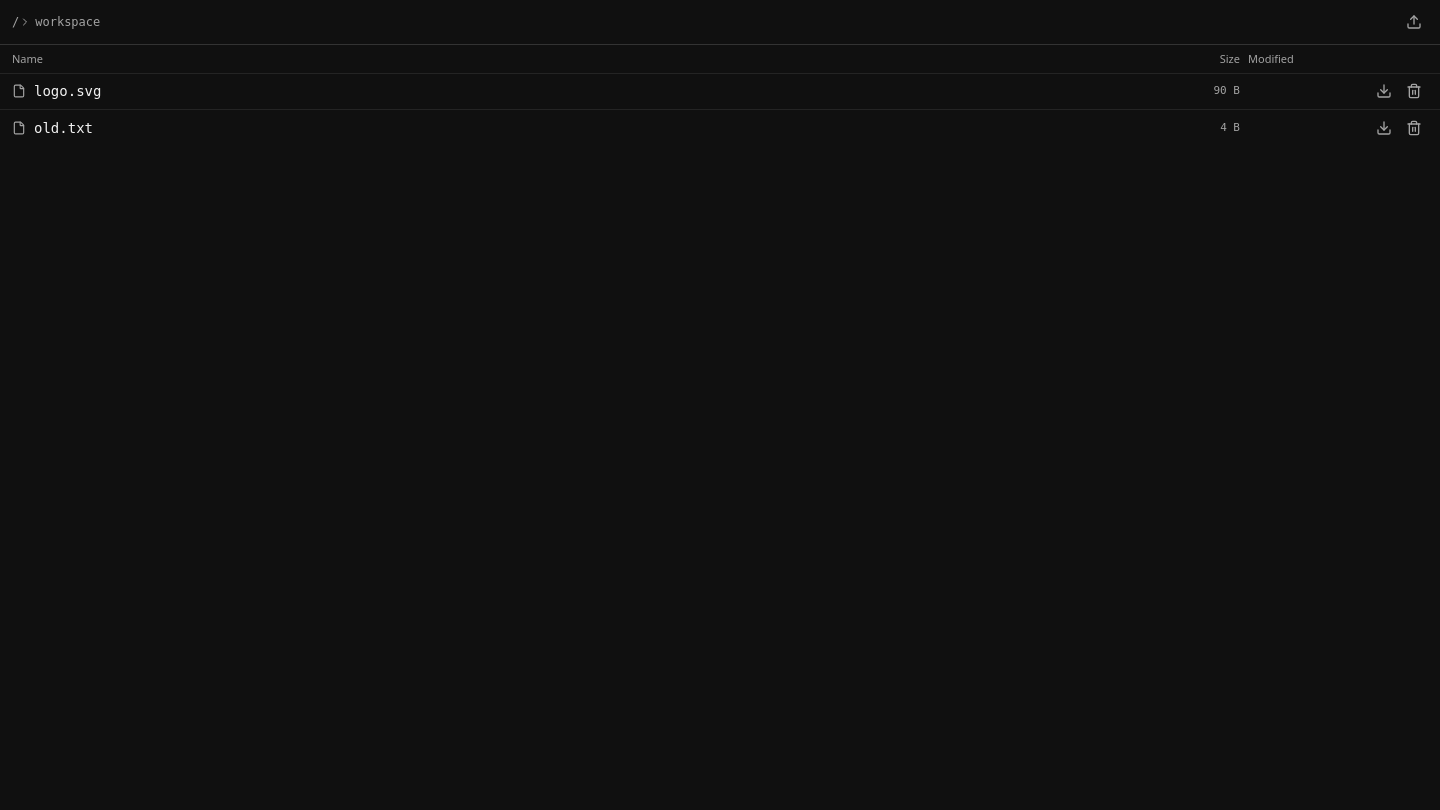
shows failed previews as errors and catches failed downloads
Click the button "old.txt" at (64, 128), box left=6, top=112, right=1160, bottom=144
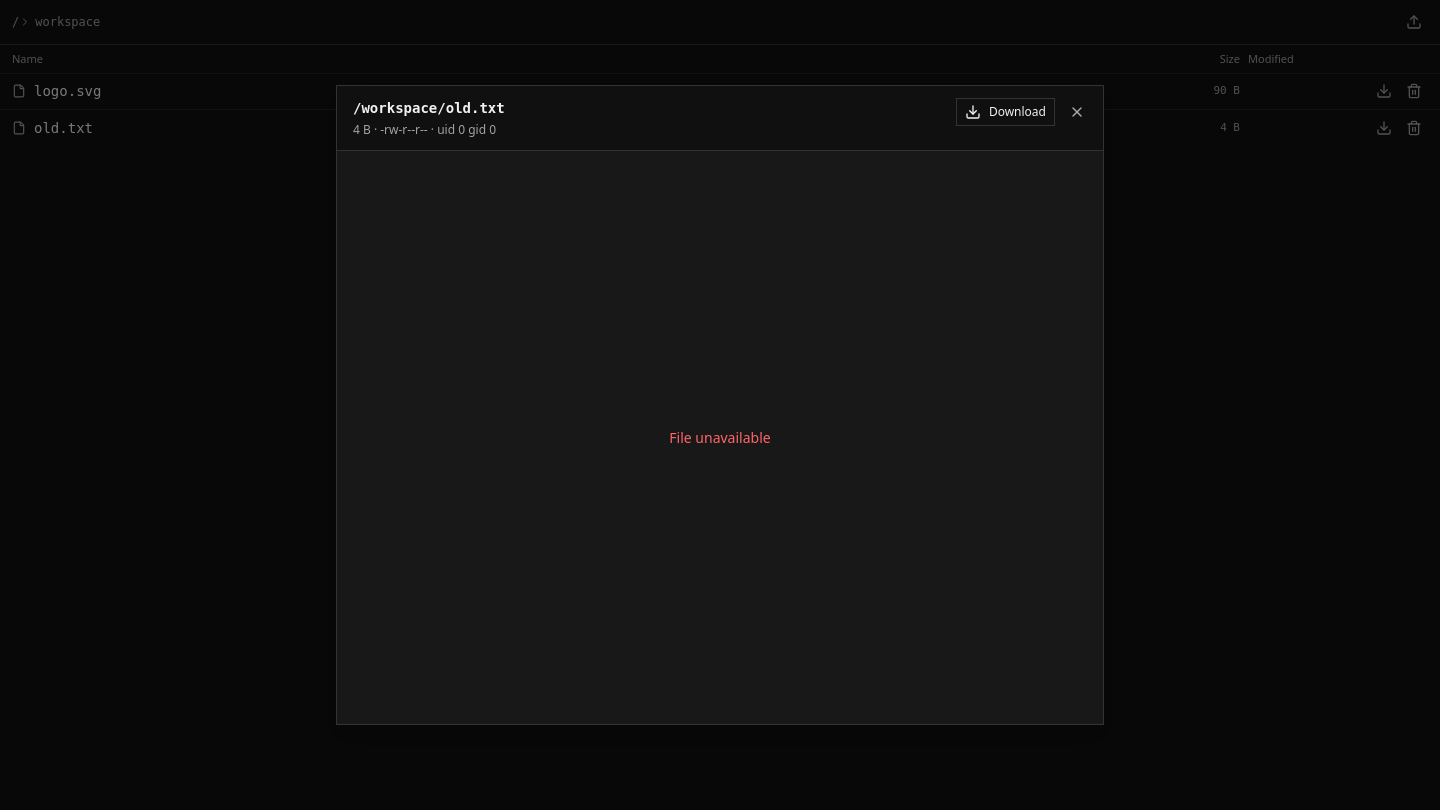
Expected: the message reads "File unavailable", left=669, top=428, right=771, bottom=446
Press Escape in the dialog, box left=336, top=85, right=1104, bottom=725
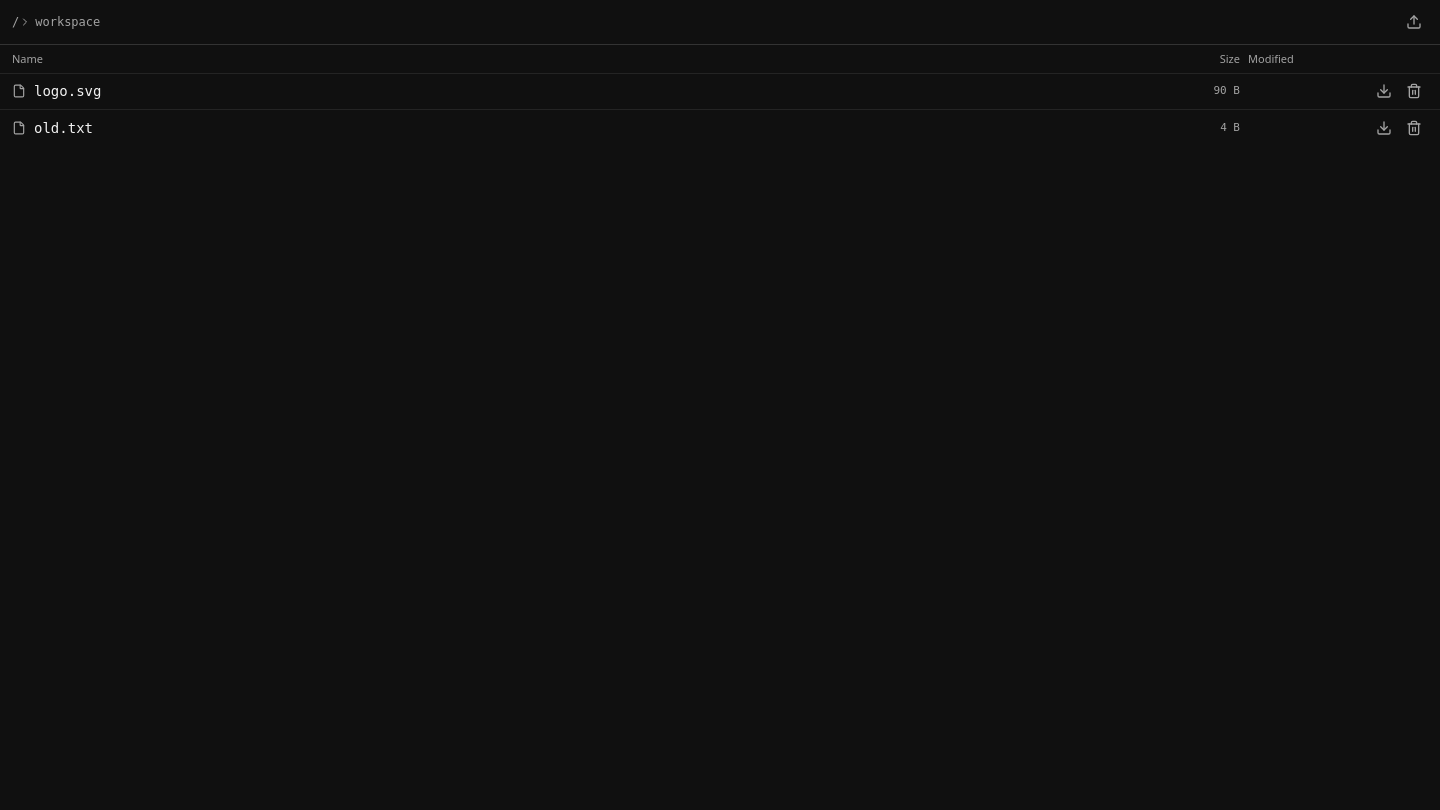
Click the button named "Download old.txt" at (1384, 128), box left=1370, top=114, right=1398, bottom=142
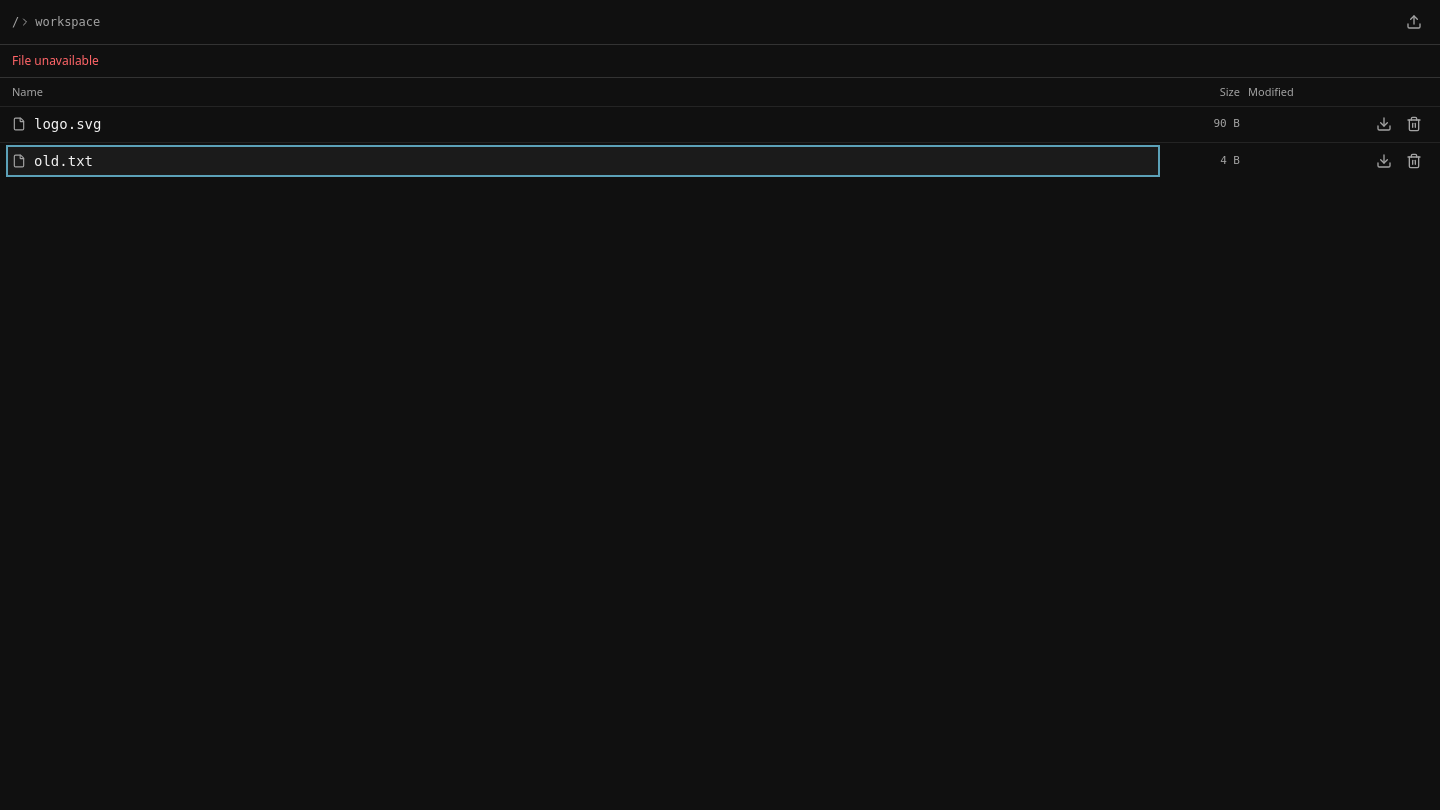
Expected: the message reads "File unavailable", left=12, top=52, right=99, bottom=69
